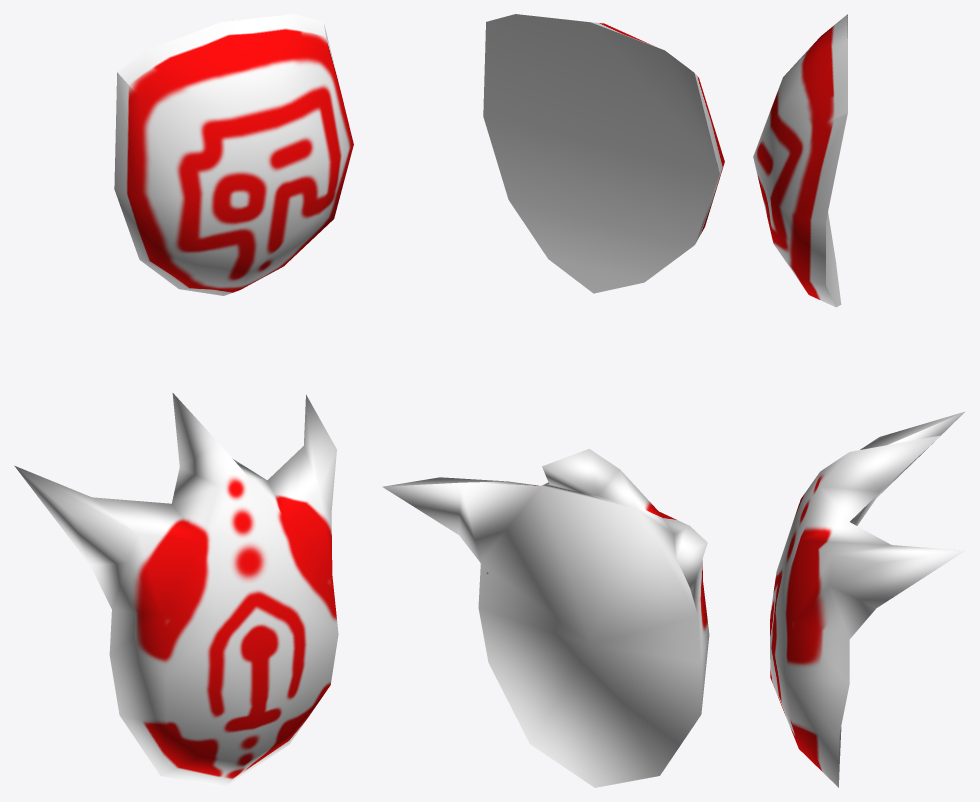
The model's file is Masks.fbx.
The picture shows the model from 3 angles, left to right: view 1: azimuth 30°, elevation 25°; view 2: azimuth 150°, elevation 25°; view 3: azimuth 270°, elevation 25°; orthographic projection. The views are drawn at different scales.
Visible parts, largest first — view 1: Apprentice mask, Circle mask; view 2: Apprentice mask, Circle mask; view 3: Apprentice mask, Circle mask.
Boxes of the visible parts, x1,y1,x2,y2 form: Apprentice mask: [14, 393, 338, 787]; Circle mask: [114, 14, 353, 295]; Apprentice mask: [382, 449, 709, 787]; Circle mask: [483, 14, 724, 293]; Apprentice mask: [770, 411, 964, 787]; Circle mask: [753, 14, 847, 307].
Bounding box in the file's own units: 19.84 × 49.52 × 12.82.
